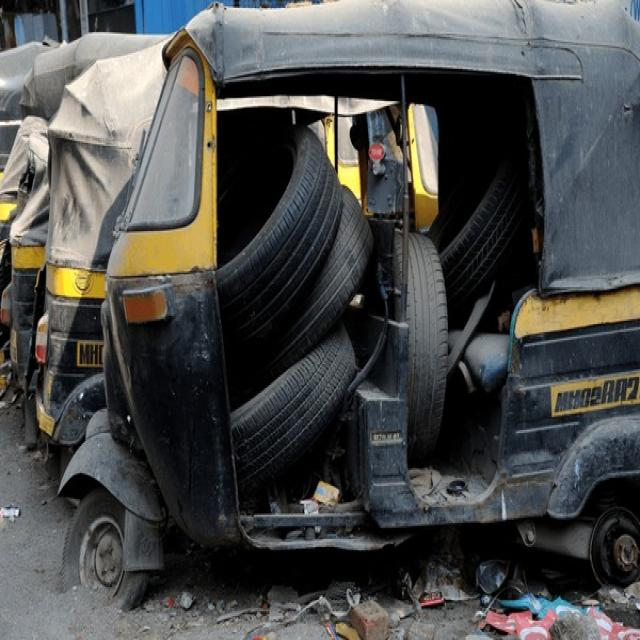accident: (60, 0, 640, 604), (0, 34, 159, 384), (39, 43, 166, 446), (218, 96, 402, 215), (410, 103, 439, 230)
